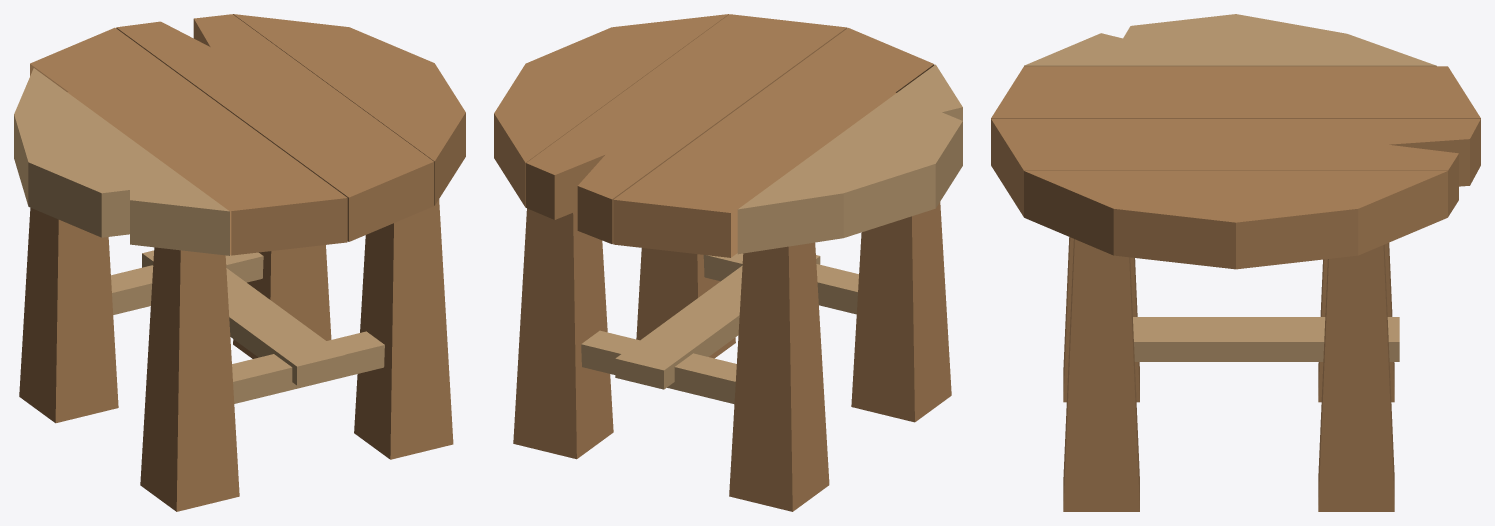
The model's file is stool_rounded.fbx.
The picture shows the model from 3 angles, left to right: view 1: azimuth 30°, elevation 25°; view 2: azimuth 150°, elevation 25°; view 3: azimuth 270°, elevation 25°; orthographic projection. The views are drawn at different scales.
Visible parts, largest first — view 1: stool_rounded; view 2: stool_rounded; view 3: stool_rounded.
Part boxes in pixels (box(x1,y1,x2,y2)): stool_rounded: box(14, 14, 465, 511); stool_rounded: box(494, 14, 962, 511); stool_rounded: box(991, 14, 1480, 511).
Size of the model in its own units: 76.42 by 54.97 by 75.83.
